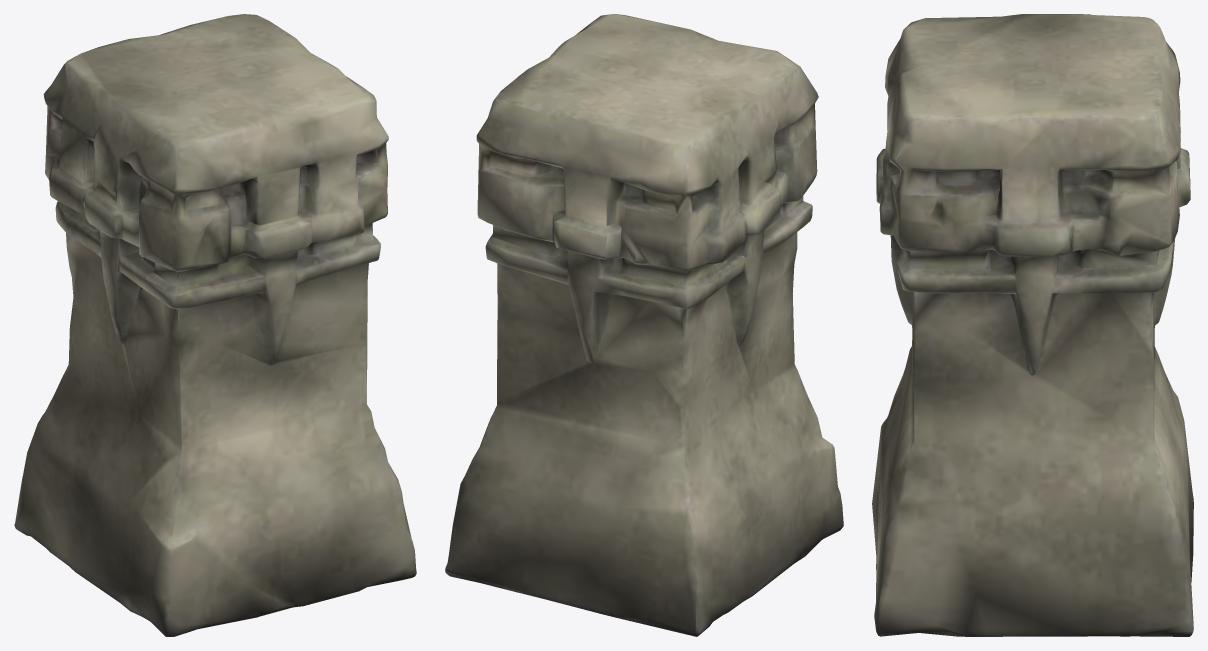
File: ornate-limestone-battlement-wall-v001.glb
3 renders of one model, left to right at view 1: azimuth 30°, elevation 25°; view 2: azimuth 150°, elevation 25°; view 3: azimuth 270°, elevation 25°, orthographic. The views are drawn at different scales.
Parts seen in each view (by area): view 1: ornate-limestone-battlement-wall; view 2: ornate-limestone-battlement-wall; view 3: ornate-limestone-battlement-wall.
Boxes of the visible parts, x1=… form: ornate-limestone-battlement-wall: x1=14, y1=14, x2=416, y2=636; ornate-limestone-battlement-wall: x1=445, y1=14, x2=843, y2=636; ornate-limestone-battlement-wall: x1=872, y1=14, x2=1193, y2=636.
Bounding box in the file's own units: 1.25 × 2.23 × 1.27.
Materials: 1 (1 with a texture image).
